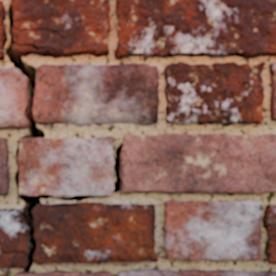brick: (115, 0, 275, 58), (121, 134, 275, 192), (165, 62, 264, 124), (164, 201, 261, 260), (19, 137, 113, 196), (12, 0, 109, 56), (118, 270, 275, 275), (263, 205, 275, 263), (0, 138, 8, 193), (16, 271, 110, 275), (0, 1, 6, 59), (270, 63, 275, 119)
broken_brick: (33, 201, 158, 265), (34, 62, 159, 125), (0, 66, 27, 128), (0, 208, 27, 250), (0, 253, 25, 268)
crack: (0, 2, 64, 273), (112, 143, 123, 192), (59, 194, 90, 201), (258, 204, 262, 210), (102, 194, 107, 197)
